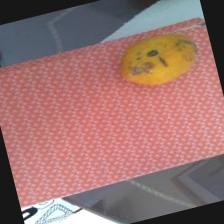Orange Rotten: (106, 17, 212, 104)
